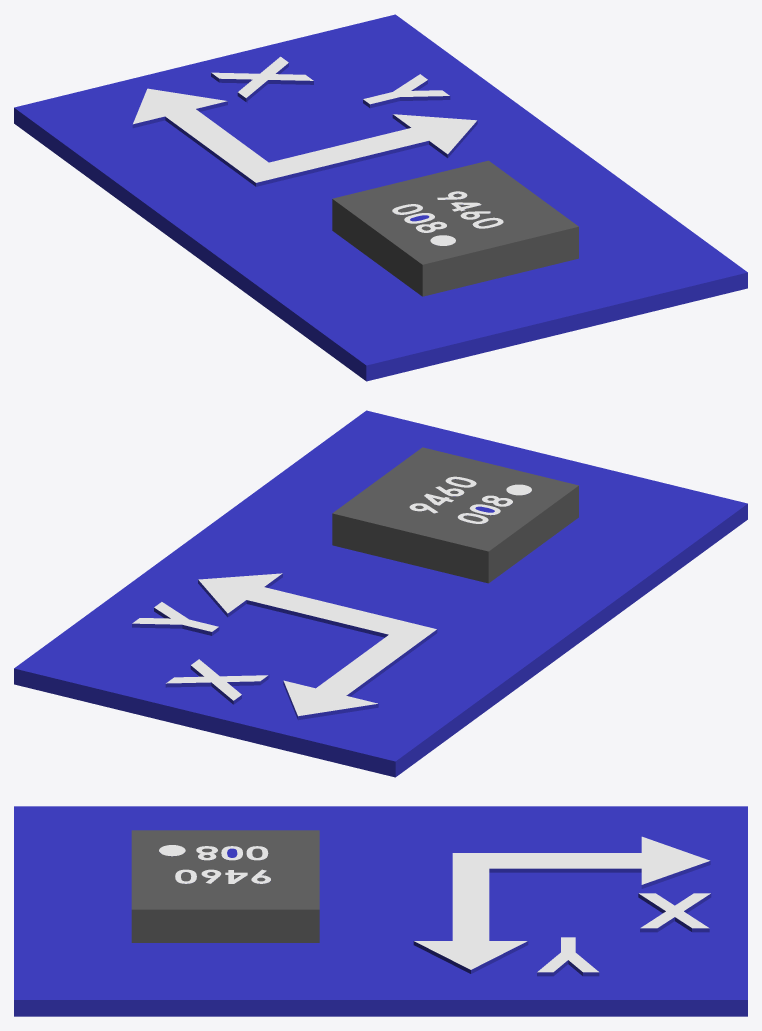
File: ist8308.gltf
3 views of the same model, one above another, from view 1: azimuth 30°, elevation 25°; view 2: azimuth 150°, elevation 25°; view 3: azimuth 270°, elevation 25° (orthographic). The views are drawn at different scales.
Size of the model in its own units: 10 by 1.3 by 16.
